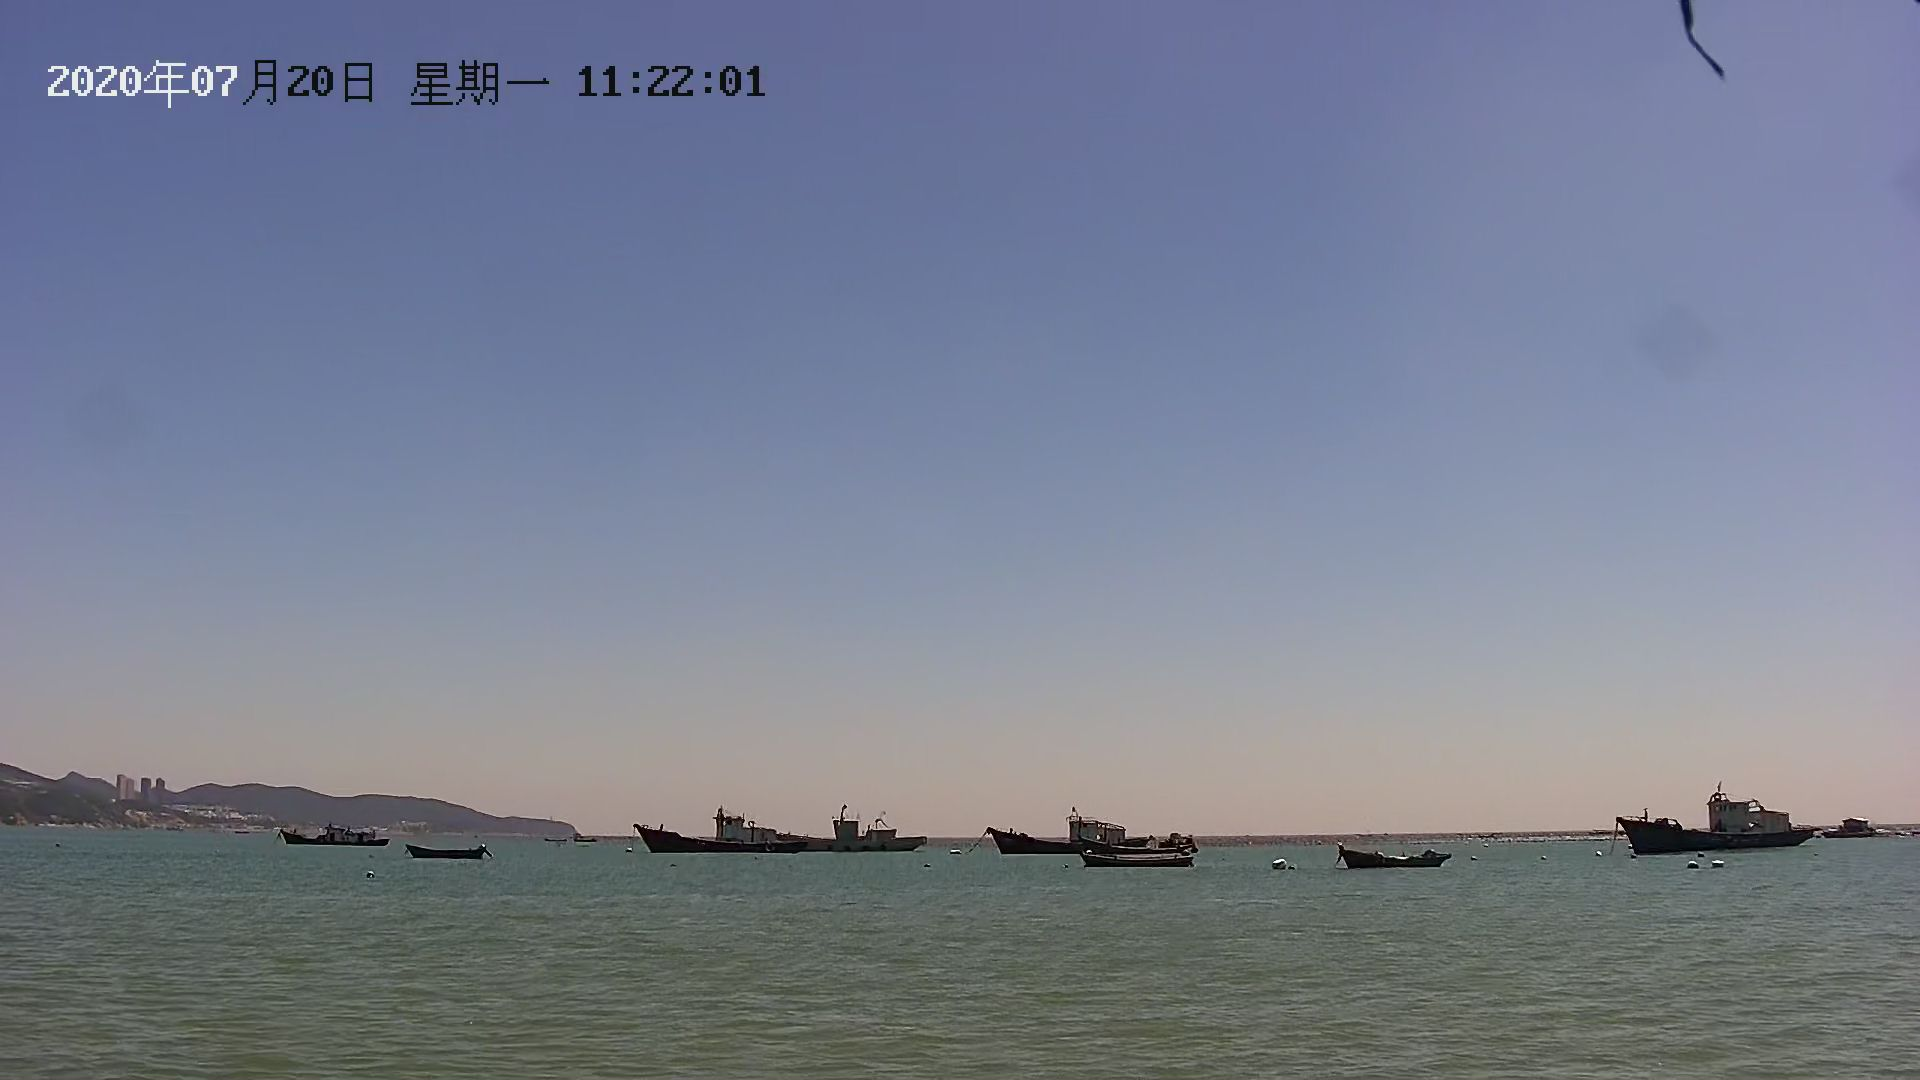boat: (630, 812, 932, 858), (1611, 798, 1812, 858), (992, 819, 1195, 852), (1338, 841, 1455, 877), (1081, 845, 1203, 872), (1811, 810, 1888, 849), (265, 823, 392, 847), (400, 843, 498, 864)
